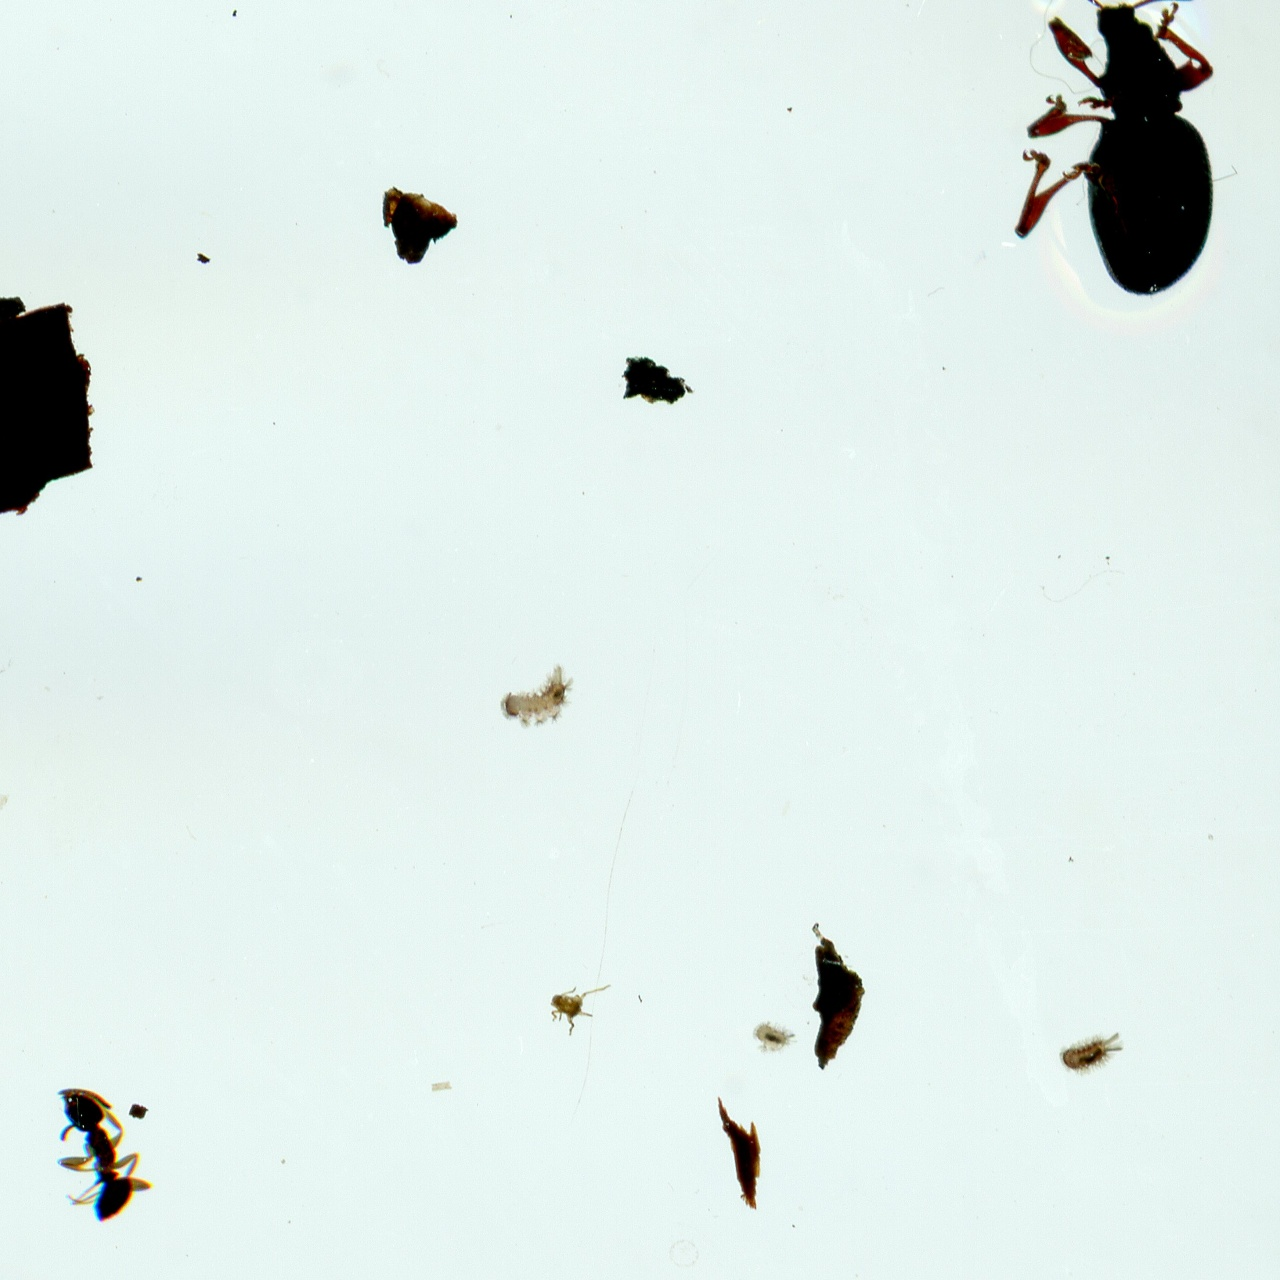arthropod: (1009, 0, 1218, 302), (52, 1084, 159, 1231), (1048, 1016, 1137, 1088), (496, 658, 581, 729), (546, 982, 614, 1040), (749, 1015, 804, 1060)
